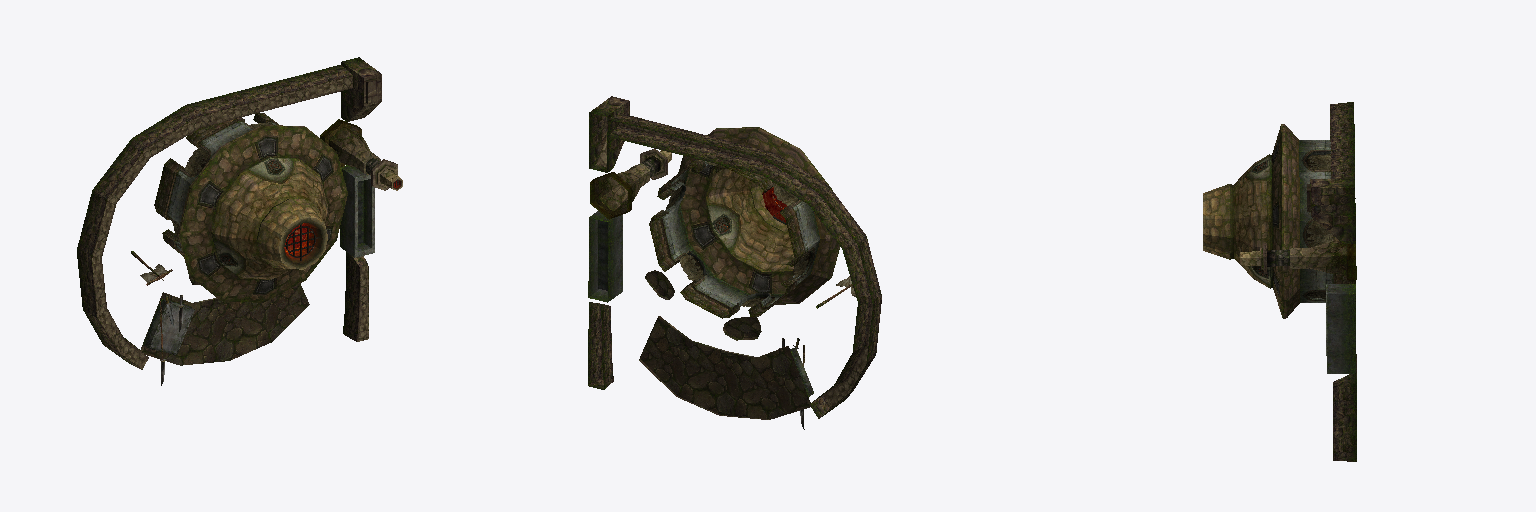
3 renders of one model, left to right at view 1: azimuth 30°, elevation 25°; view 2: azimuth 150°, elevation 25°; view 3: azimuth 270°, elevation 25°, orthographic.
Parts seen in each view (by area): view 1: zhanchang_fuben_303_binggongchang02; view 2: zhanchang_fuben_303_binggongchang02; view 3: zhanchang_fuben_303_binggongchang02.
Boxes of the visible parts, x1,y1,x2,y2 form: zhanchang_fuben_303_binggongchang02: [77, 57, 402, 385]; zhanchang_fuben_303_binggongchang02: [588, 96, 881, 429]; zhanchang_fuben_303_binggongchang02: [1203, 102, 1356, 461].
Bounding box in the file's own units: 736 × 676 × 345.
Materials: 12 (12 with a texture image).